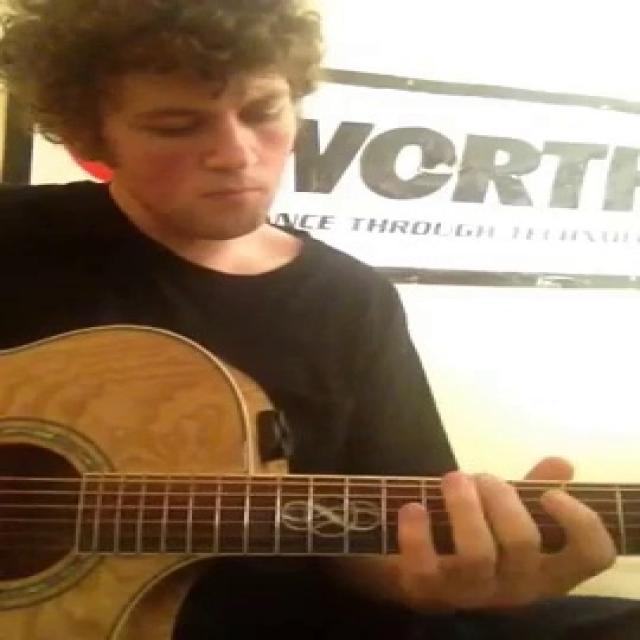Guitar: (1, 300, 640, 639)
